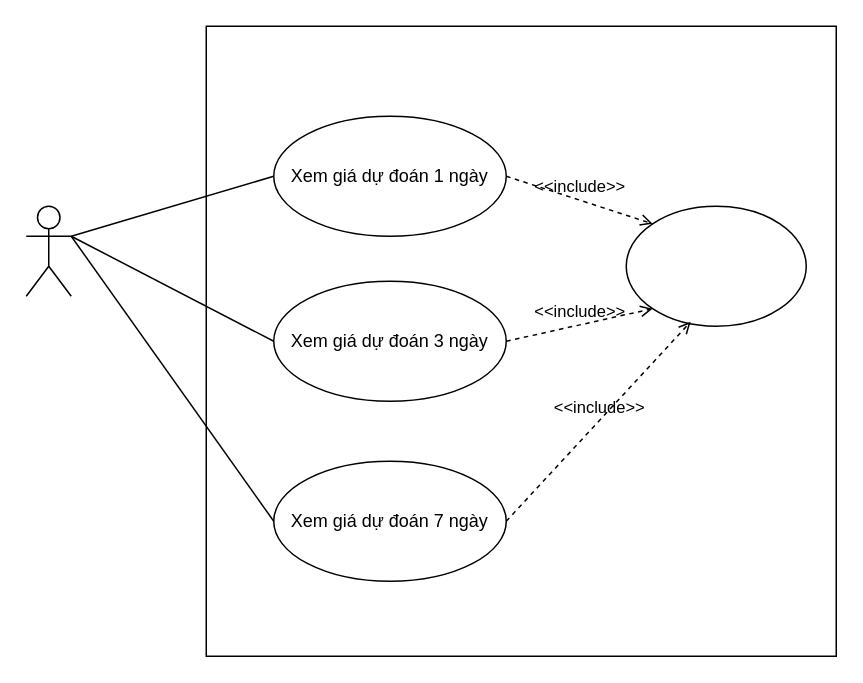
The diagram is 863 pixels wide and 683 high, and some of its shapes have lost their labels. The shapes that lost their labels are listed below. From the top down, each one's box as (x1, y1, x2, y2) in pixels, then its label:
(25, 205, 71, 296): Actor
(625, 205, 806, 326): Đăng nhập
